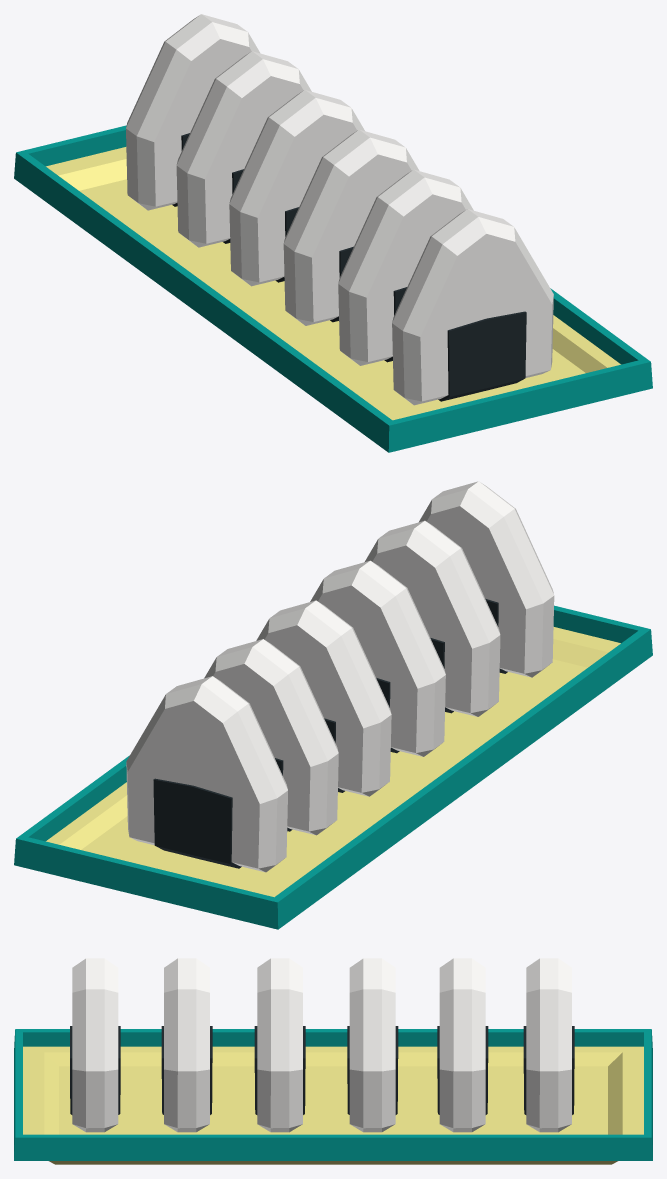
File: Plate_with_rice_cake_2.fbx
3 renders of one model, top to bottom at view 1: azimuth 30°, elevation 25°; view 2: azimuth 150°, elevation 25°; view 3: azimuth 270°, elevation 25°, orthographic. The views are drawn at different scales.
Visible parts, largest first — view 1: Plate_with_rice_cake_2; view 2: Plate_with_rice_cake_2; view 3: Plate_with_rice_cake_2.
Boxes of the visible parts, left/top/right/bottom form: Plate_with_rice_cake_2: left=14, top=14, right=652, bottom=452; Plate_with_rice_cake_2: left=14, top=481, right=652, bottom=929; Plate_with_rice_cake_2: left=14, top=958, right=652, bottom=1164.
Size of the model in its own units: 9.08 by 22.31 by 6.25.
